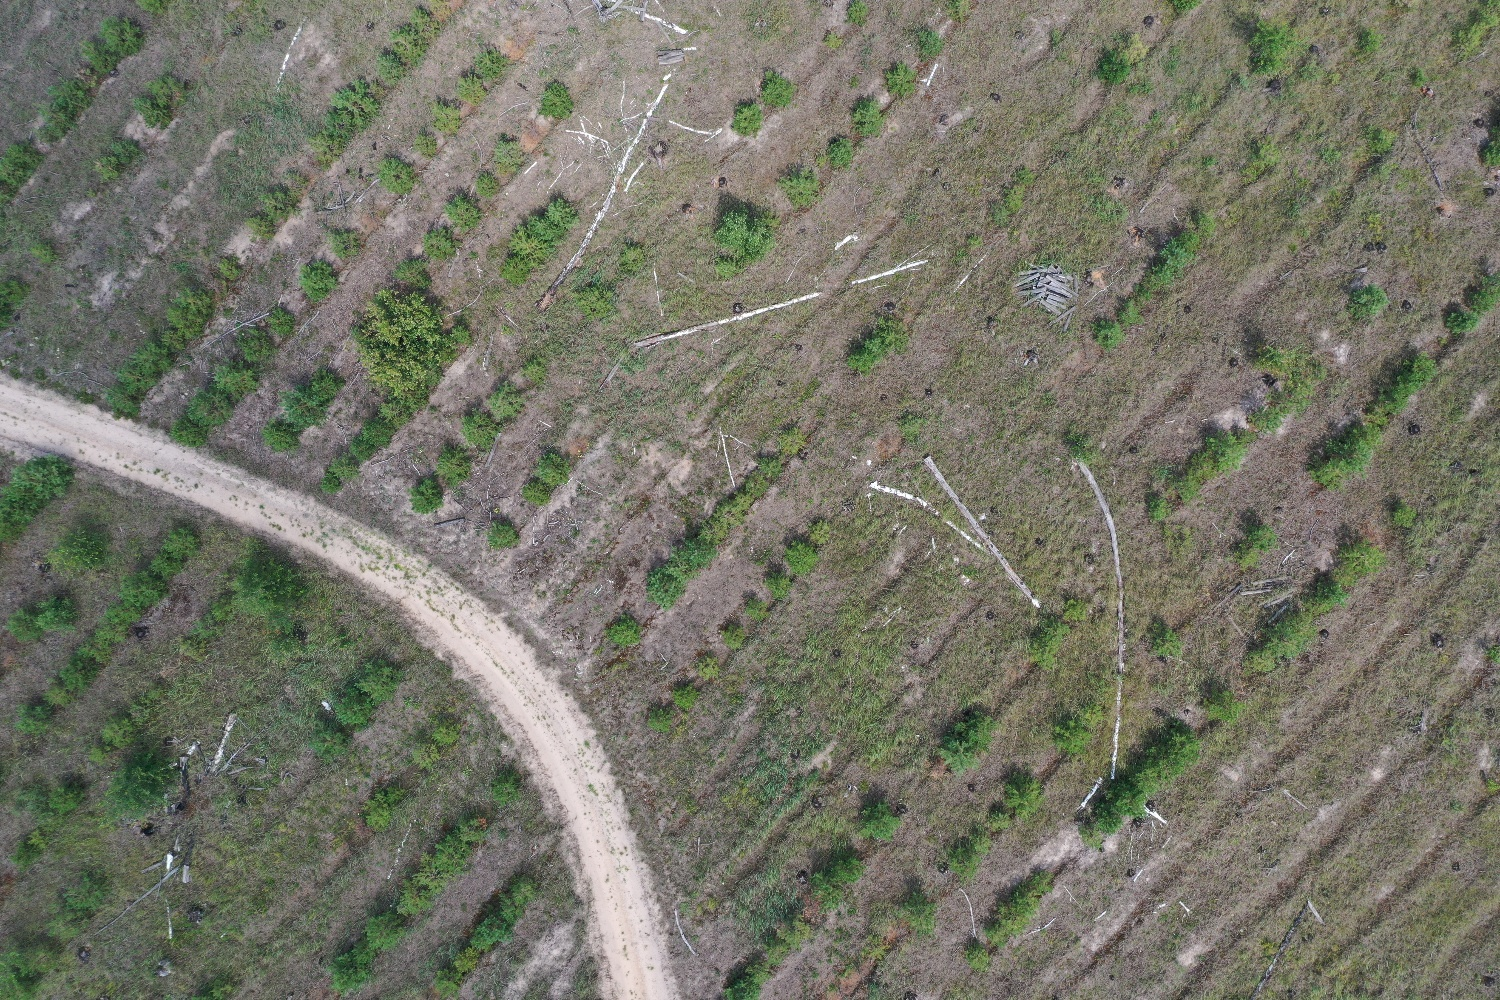branches: (1008, 265, 1080, 331)
